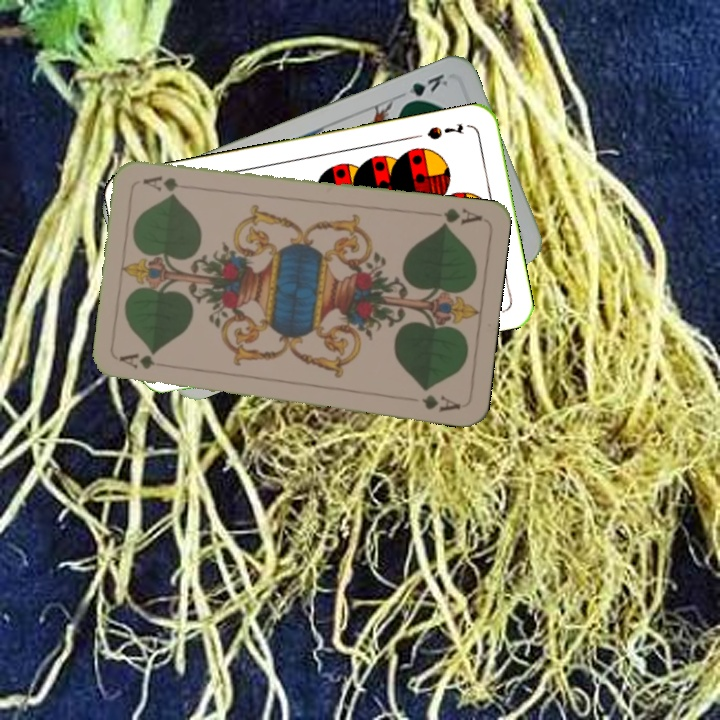GA: (435, 204, 485, 230), (116, 351, 157, 372)
GK: (394, 69, 451, 108)
S7: (422, 119, 466, 142)
